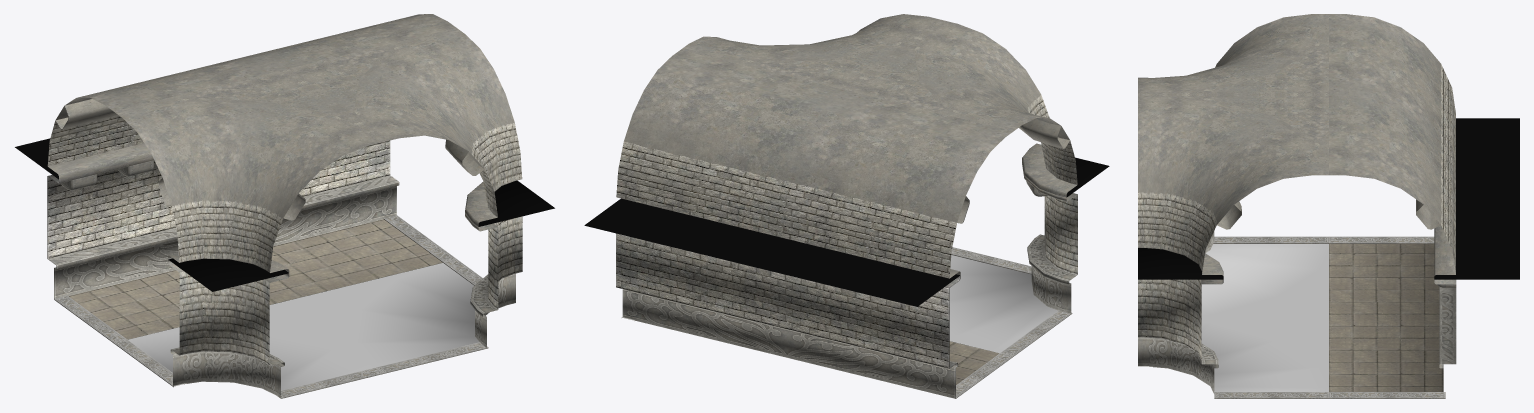
The model's file is dungeon_Modelling Tile_04.fbx.
3 renders of one model, left to right at view 1: azimuth 30°, elevation 25°; view 2: azimuth 150°, elevation 25°; view 3: azimuth 270°, elevation 25°, orthographic. The views are drawn at different scales.
Parts seen in each view (by area): view 1: tyt:dungeon_Tile_04_Front_Wall, tyt:dungeon_Tile_04_Left_Roof, tyt:dungeon_Tile_04_Right_Roof, tyt:dungeon_Tile_04_Left_Wall, tyt:dungeon_Tile_04_Right_Wall, tyt:dungeon_Tile_04_Front_Roof; view 2: tyt:dungeon_Tile_04_Front_Roof, tyt:dungeon_Tile_04_Front_Wall, tyt:dungeon_Tile_04_Left_Roof, tyt:dungeon_Tile_04_Left_Wall, tyt:dungeon_Tile_04_Right_Roof; view 3: tyt:dungeon_Tile_04_Front_Wall, tyt:dungeon_Tile_04_Right_Roof, tyt:dungeon_Tile_04_Front_Roof, tyt:dungeon_Tile_04_Right_Wall, tyt:dungeon_Tile_04_Left_Wall, tyt:dungeon_Tile_04_Left_Roof.
Boxes of the visible parts, x1,y1,x2,y2 form: tyt:dungeon_Tile_04_Front_Wall: (15,138,455,342); tyt:dungeon_Tile_04_Left_Roof: (114,69,383,272); tyt:dungeon_Tile_04_Right_Roof: (285,27,522,226); tyt:dungeon_Tile_04_Left_Wall: (113,258,383,398); tyt:dungeon_Tile_04_Right_Wall: (285,180,554,373); tyt:dungeon_Tile_04_Front_Roof: (47,14,455,179); tyt:dungeon_Tile_04_Front_Roof: (616,50,1013,278); tyt:dungeon_Tile_04_Front_Wall: (584,198,1013,398); tyt:dungeon_Tile_04_Left_Roof: (847,20,1077,197); tyt:dungeon_Tile_04_Left_Wall: (949,157,1109,356); tyt:dungeon_Tile_04_Right_Roof: (681,14,942,90); tyt:dungeon_Tile_04_Front_Wall: (1329,118,1519,398); tyt:dungeon_Tile_04_Right_Roof: (1138,94,1328,275); tyt:dungeon_Tile_04_Front_Roof: (1329,14,1455,275); tyt:dungeon_Tile_04_Right_Wall: (1138,248,1328,398); tyt:dungeon_Tile_04_Left_Wall: (1201,231,1328,318); tyt:dungeon_Tile_04_Left_Roof: (1138,14,1328,94).
Size of the model in its own units: 90 by 58.13 by 90.
